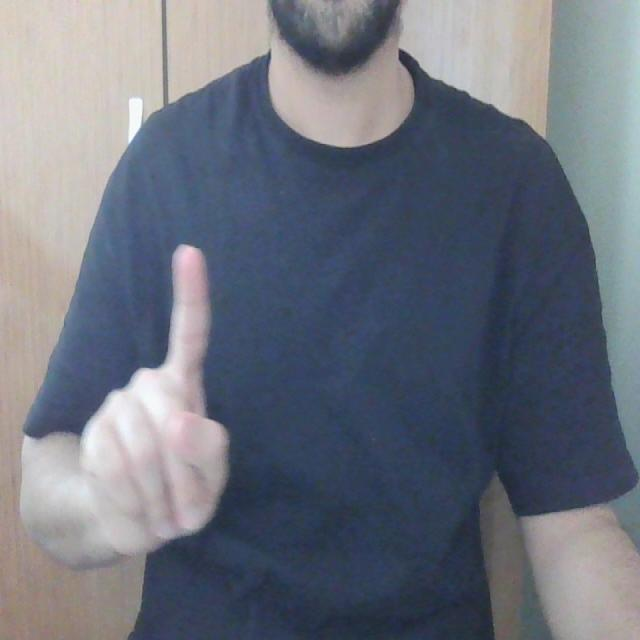Hayir: (81, 182, 237, 585)
